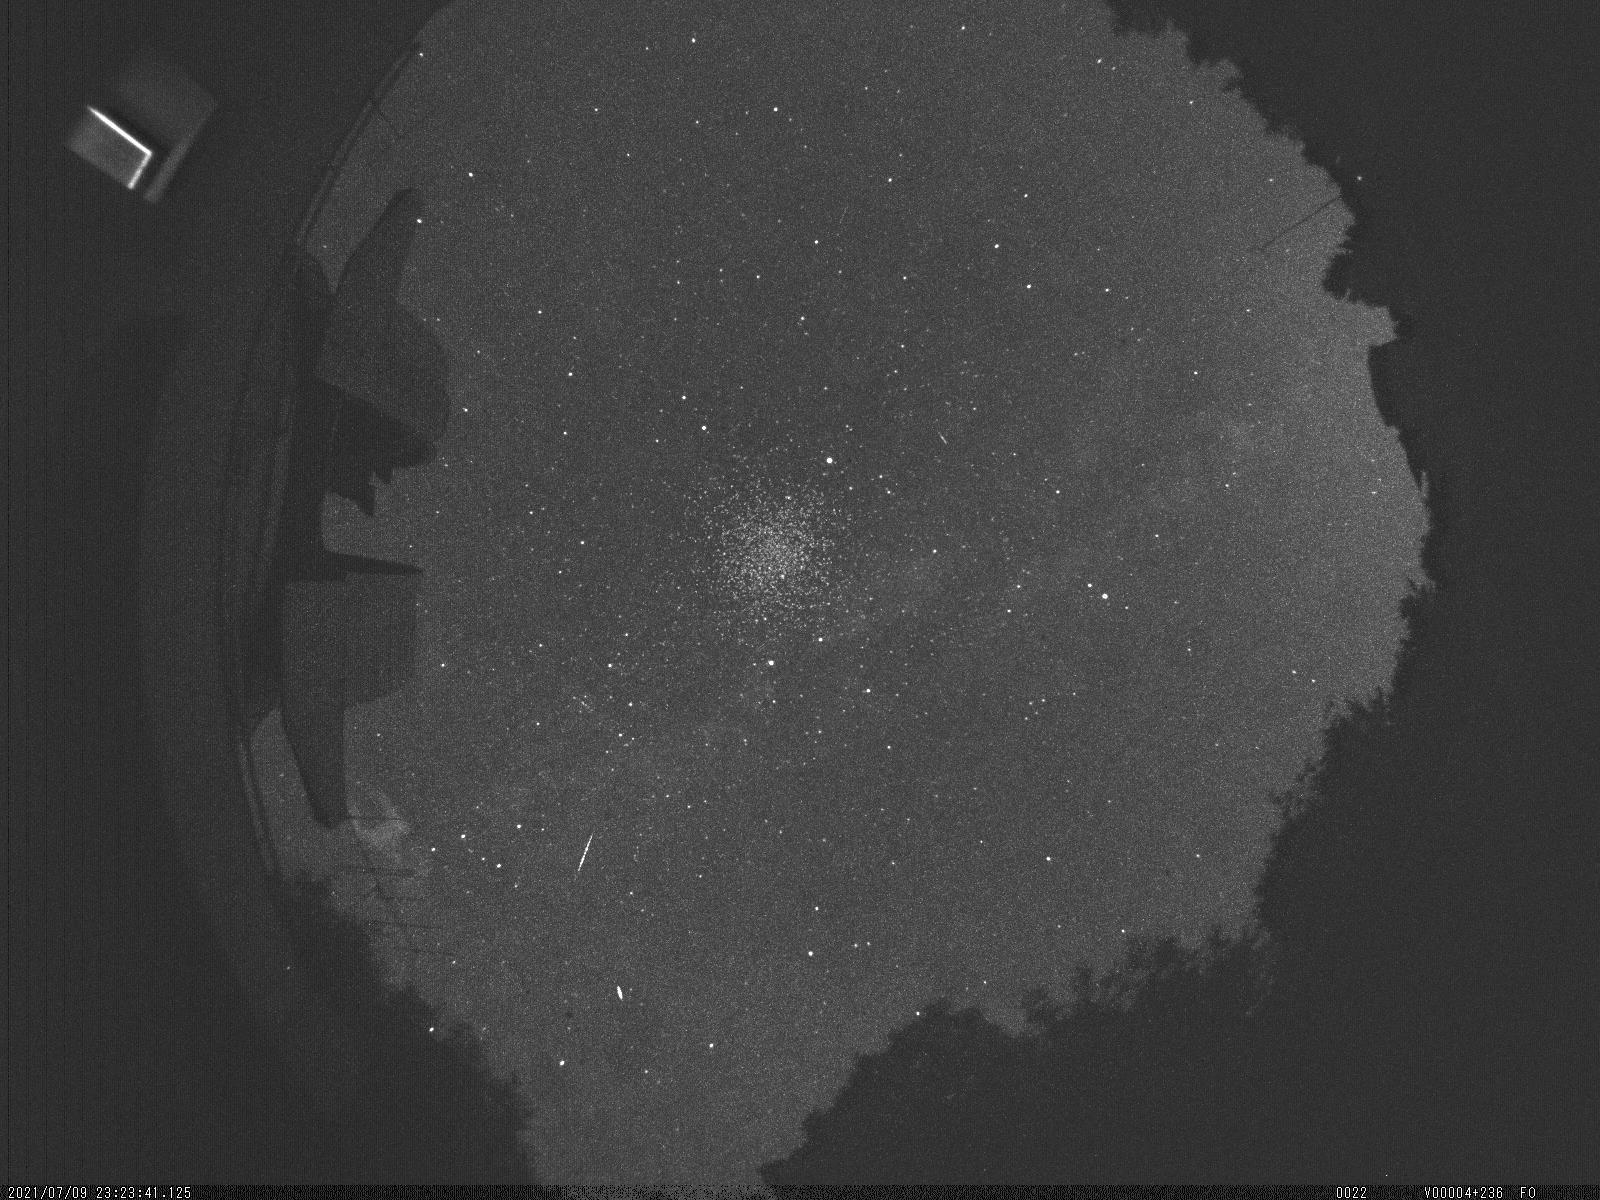Meteor: (569, 827, 601, 889)
